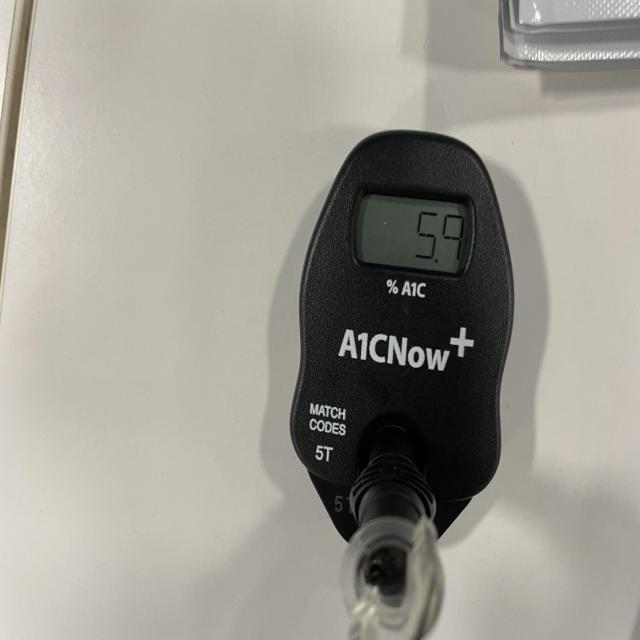hba1c: (287, 130, 515, 633)
